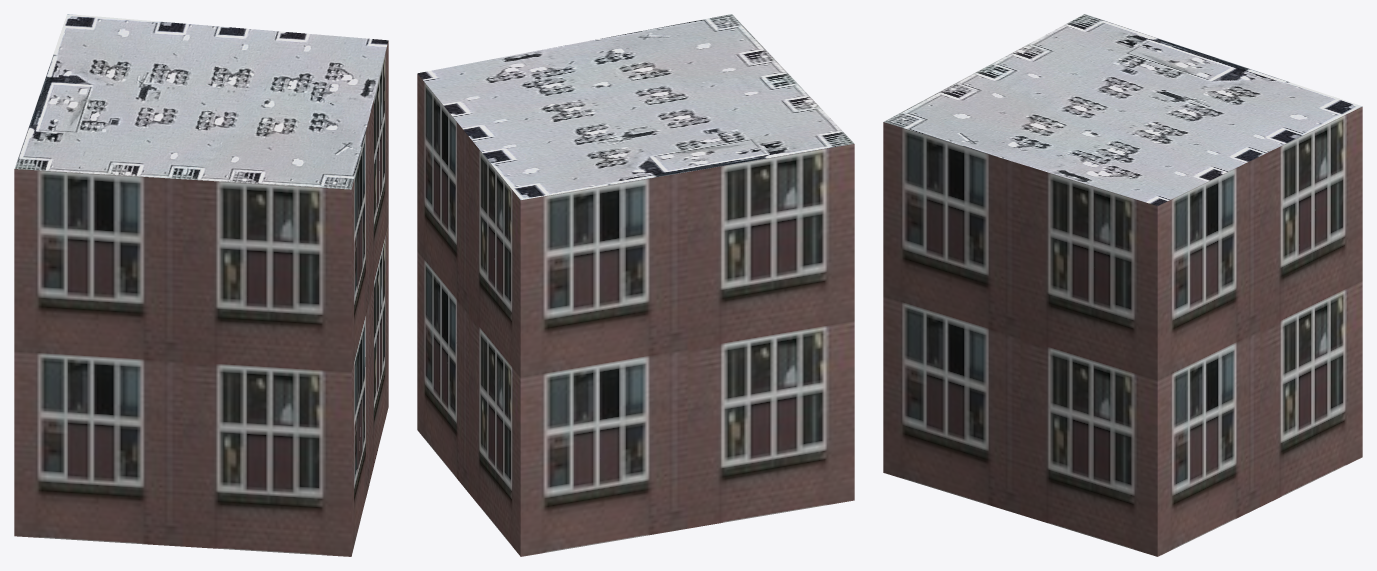
File: ResTex__2464.fbx
3 renders of one model, left to right at view 1: azimuth 30°, elevation 25°; view 2: azimuth 150°, elevation 25°; view 3: azimuth 270°, elevation 25°, orthographic. The views are drawn at different scales.
Visible parts, largest first — view 1: CityEngineMaterial_12_m, CityEngineMaterial_8_m; view 2: CityEngineMaterial_12_m, CityEngineMaterial_8_m; view 3: CityEngineMaterial_12_m, CityEngineMaterial_8_m.
Part boxes in pixels (x1=…): CityEngineMaterial_12_m: x1=14, y1=40, x2=388, y2=556; CityEngineMaterial_8_m: x1=14, y1=14, x2=388, y2=189; CityEngineMaterial_12_m: x1=417, y1=74, x2=854, y2=556; CityEngineMaterial_8_m: x1=417, y1=14, x2=854, y2=199; CityEngineMaterial_12_m: x1=883, y1=106, x2=1362, y2=556; CityEngineMaterial_8_m: x1=884, y1=14, x2=1362, y2=205.
Size of the model in its own units: 7.05 by 6 by 7.43.
Materials: 2 (2 with a texture image).
